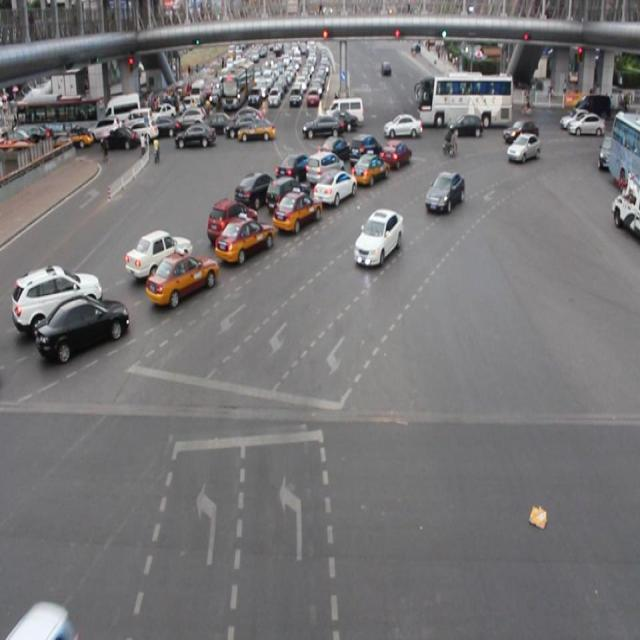car: (33, 296, 132, 360), (10, 266, 104, 330), (144, 248, 221, 308), (124, 223, 194, 283), (351, 210, 404, 268), (213, 215, 276, 263), (205, 196, 259, 244), (271, 187, 323, 234), (264, 170, 311, 212), (424, 170, 467, 214), (311, 170, 358, 209), (233, 168, 275, 208), (350, 149, 390, 190), (305, 146, 344, 188), (348, 130, 384, 170), (378, 133, 413, 174), (505, 130, 541, 166), (275, 150, 312, 185), (319, 134, 353, 167)
truck: (9, 591, 75, 640)
